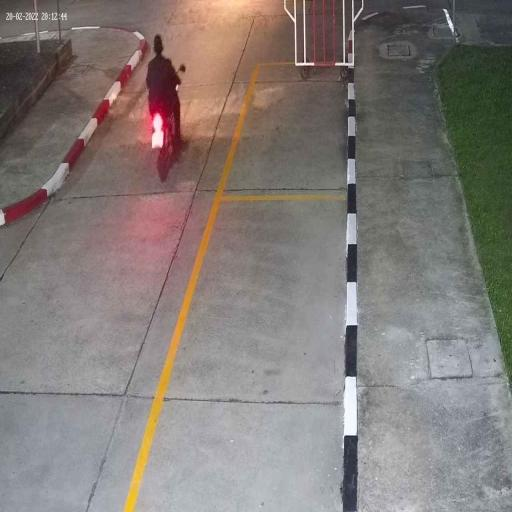motorcycle: (150, 102, 182, 183)
